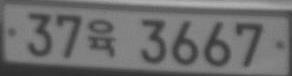3: (140, 20, 166, 62), (28, 13, 52, 56)
6: (172, 20, 198, 64), (204, 21, 230, 65)
7: (236, 22, 262, 66), (57, 15, 81, 57)
육: (87, 18, 116, 57)
